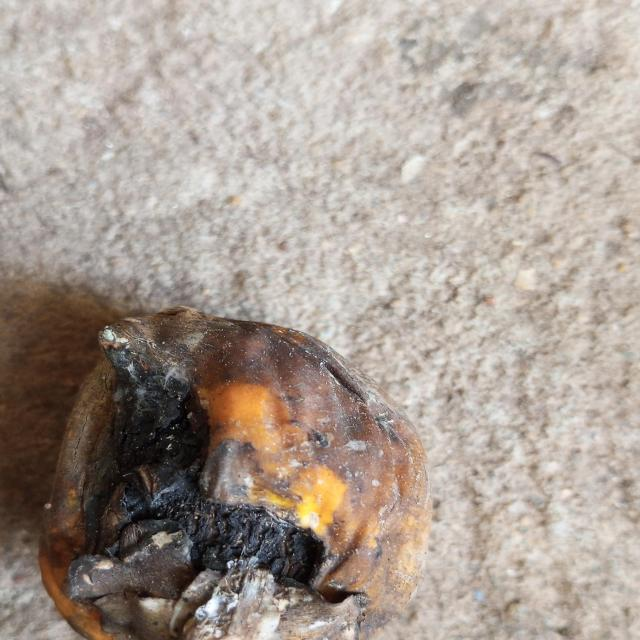damaged: (37, 308, 431, 640)
